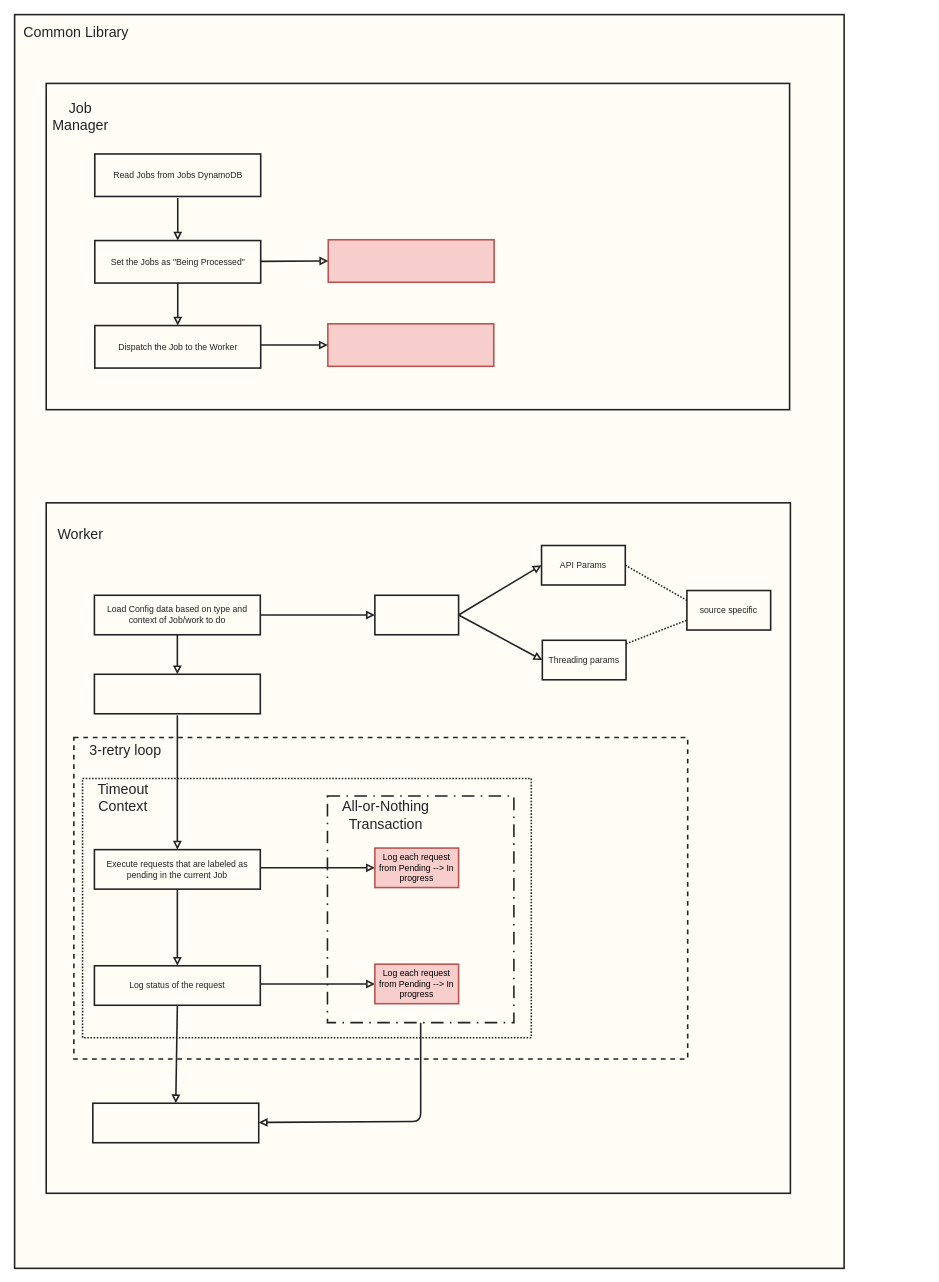
The diagram is 939 pixels wide and 1282 high, and some of its shapes have lost their labels. Each missing label, with the box of its shape:
AWS PARAMS: (374, 594, 459, 635)
Instantiate TCP Connection via session object: (93, 673, 261, 714)
Log Accomulated transactions: (92, 1102, 259, 1143)
Log the Airflow execution context that is taking care of it: (327, 239, 495, 283)
Log the worker context that will take care of it: (327, 323, 494, 367)
